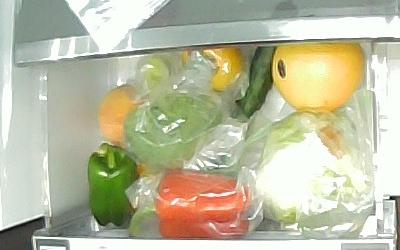broccoli_vinyl: (122, 54, 222, 170)
cucumber: (230, 45, 276, 130)
grapefruit: (271, 42, 364, 112)
lettuce_vinyl: (257, 112, 366, 224)
paprika: (86, 142, 139, 226)
paprika_vinyl: (125, 169, 252, 238)
peach_vinyl: (97, 85, 141, 145)
persimmon_vinyl: (179, 47, 243, 93)
